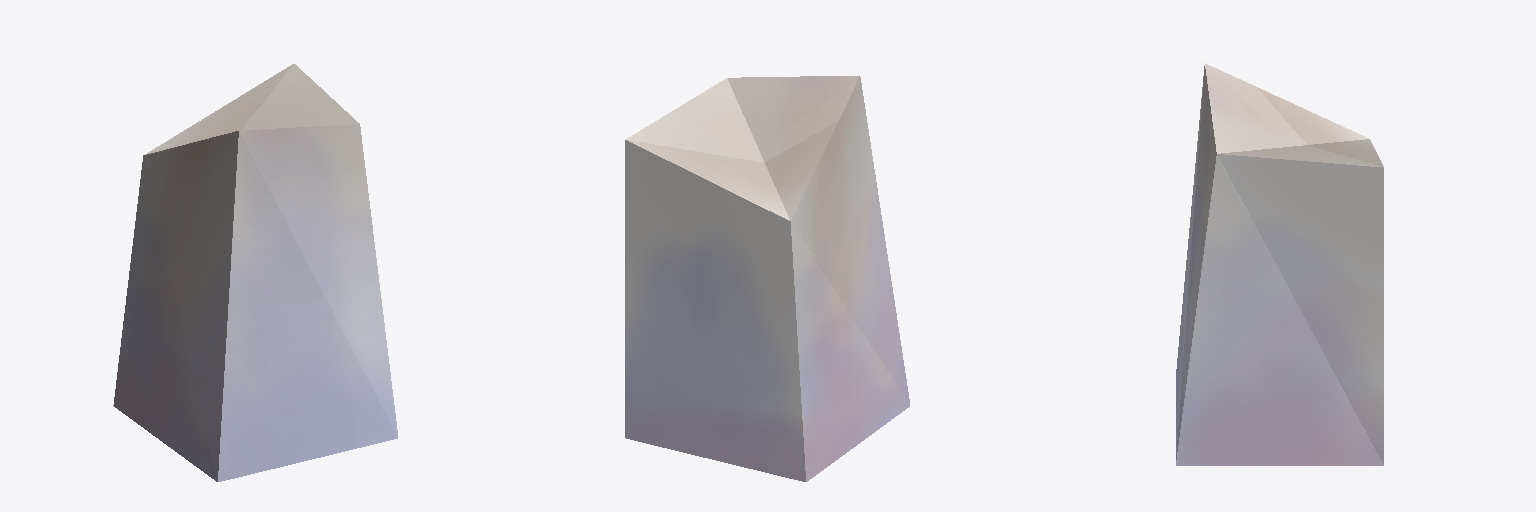
The picture shows the model from 3 angles: view 1: azimuth 30°, elevation 25°; view 2: azimuth 150°, elevation 25°; view 3: azimuth 270°, elevation 25°; orthographic projection.
Parts seen in each view (by area): view 1: Cube; view 2: Cube; view 3: Cube.
Boxes of the visible parts, x1=… form: Cube: x1=113, y1=64, x2=397, y2=481; Cube: x1=625, y1=75, x2=909, y2=481; Cube: x1=1176, y1=63, x2=1383, y2=465.
Size of the model in its own units: 2 by 3.52 by 2.
1 materials, 1 textured.